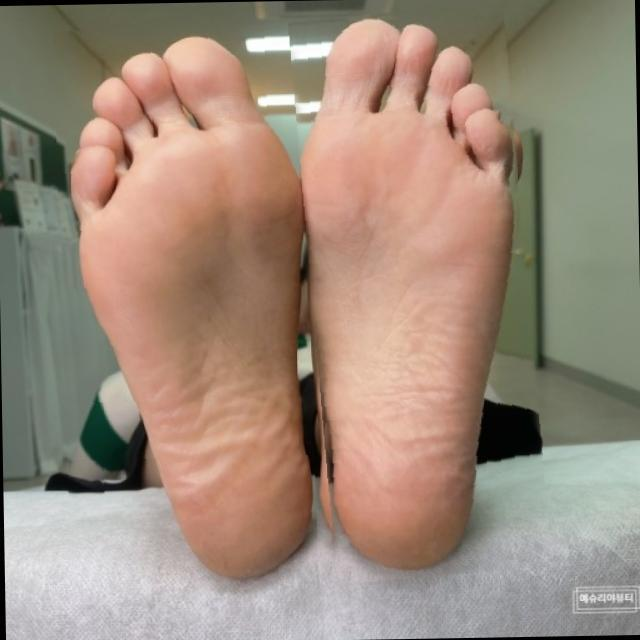Barefoots: (57, 24, 323, 586), (302, 21, 511, 568)
